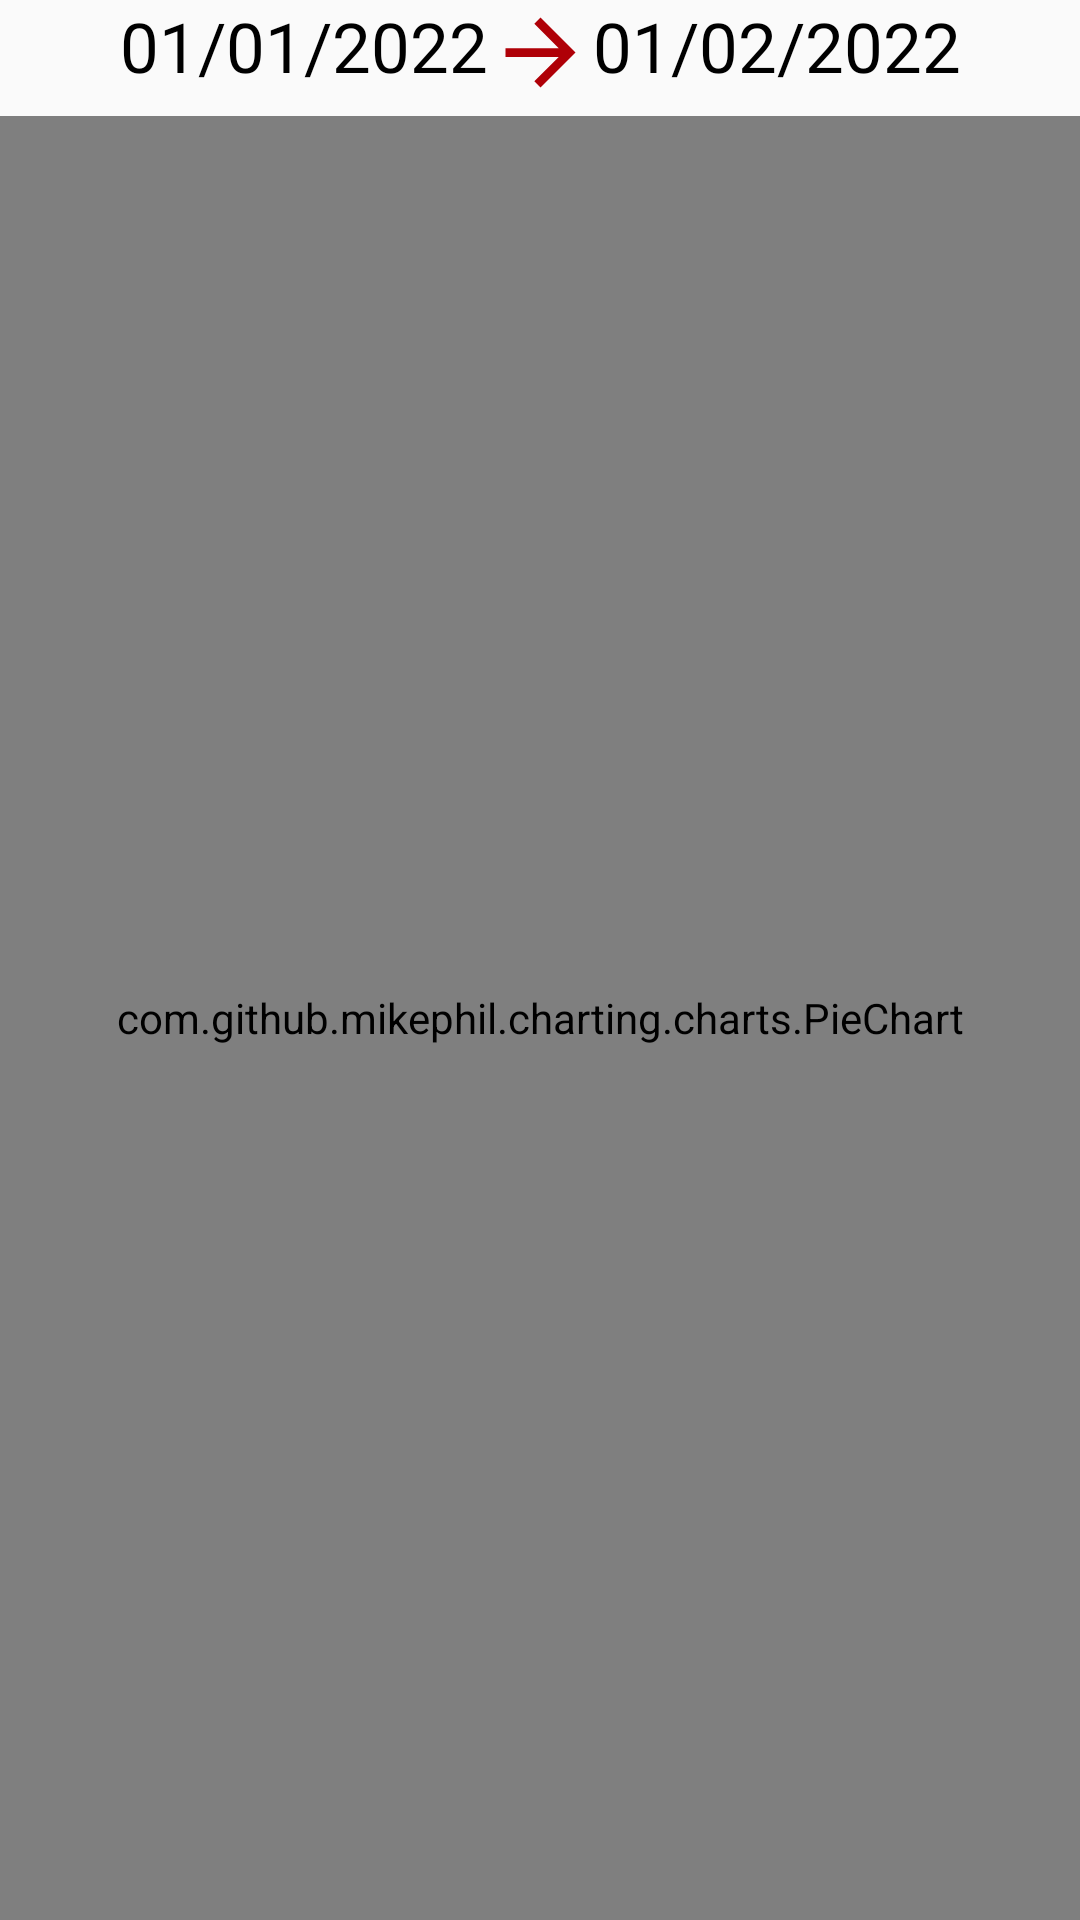

Icons on this 1080 × 1920 Android screen, each with its box as box(x1, y1, x2, y2):
right: box(505, 17, 576, 88)
